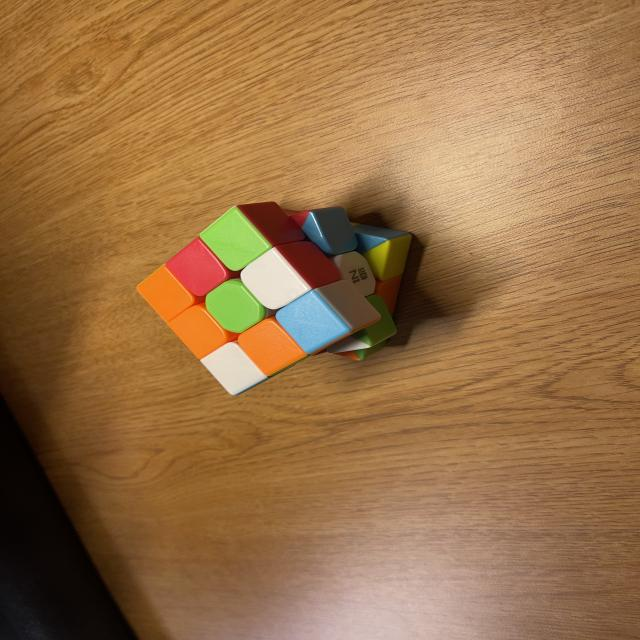Rubiks Cube: (135, 204, 413, 399)
